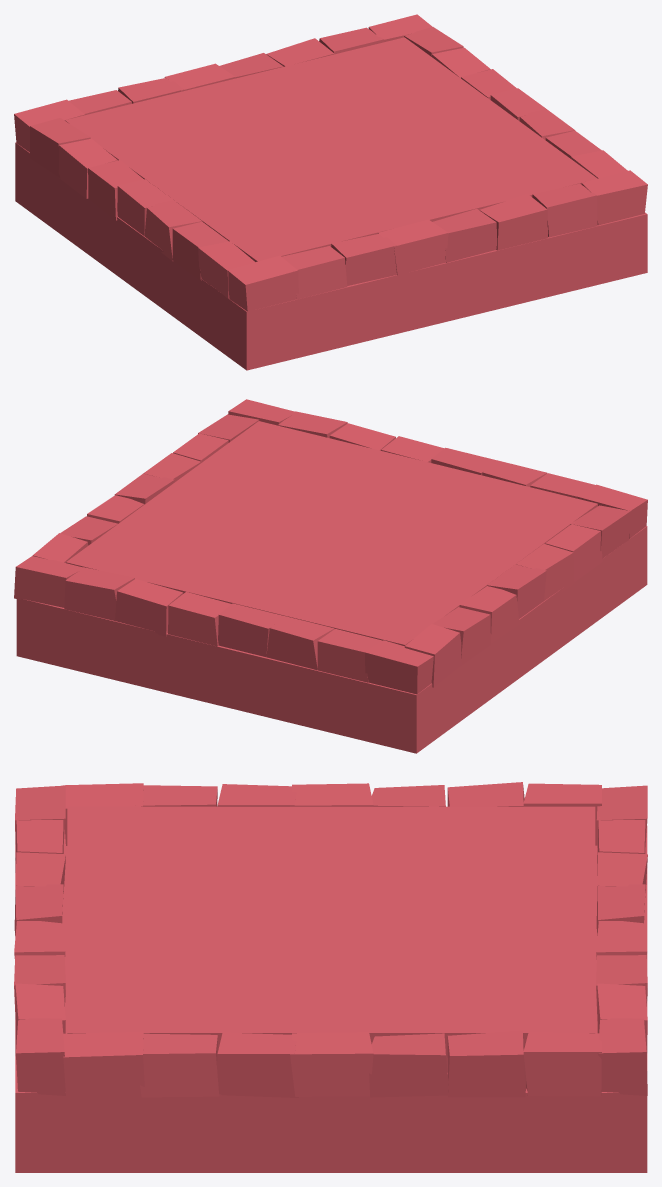
File: WolfdenLowerFloor.fbx
3 renders of one model, top to bottom at view 1: azimuth 30°, elevation 25°; view 2: azimuth 150°, elevation 25°; view 3: azimuth 270°, elevation 25°, orthographic. The views are drawn at different scales.
Visible parts, largest first — view 1: Plane.005, Cube.008, Cube.055; view 2: Plane.005, Cube.008, Cube.055; view 3: Plane.005, Cube.055, Cube.008.
Boxes of the visible parts, x1,y1,x2,y2 form: Plane.005: [15, 37, 647, 370]; Cube.008: [14, 14, 647, 312]; Cube.055: [29, 27, 627, 298]; Plane.005: [16, 421, 647, 753]; Cube.008: [14, 399, 647, 694]; Cube.055: [32, 414, 631, 687]; Plane.005: [15, 806, 647, 1172]; Cube.055: [62, 782, 601, 1097]; Cube.008: [14, 785, 647, 1095].
Size of the model in its own units: 2959 by 626 by 2931.
